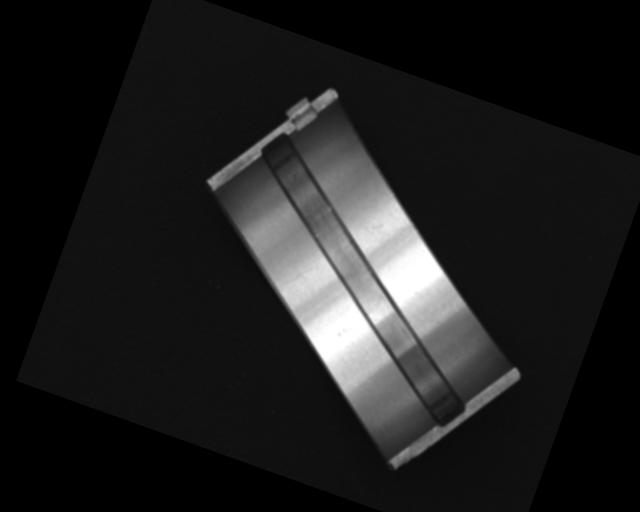gap: (195, 129, 531, 433)
nick: (284, 259, 313, 293)
